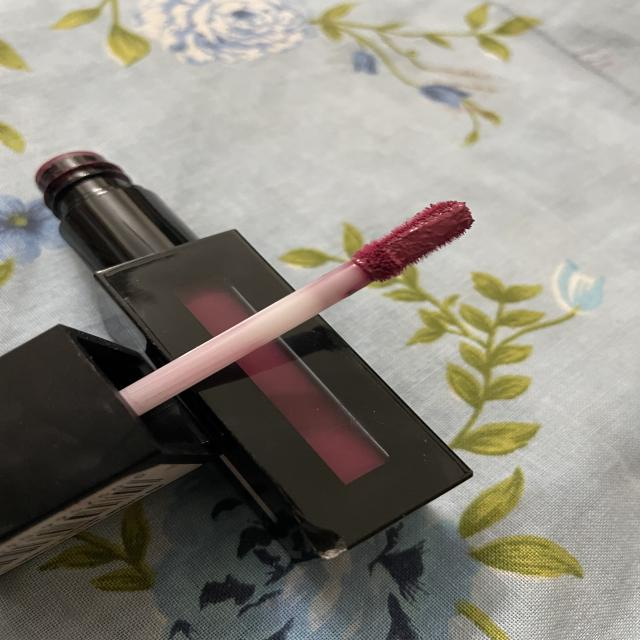lip gloss: (0, 148, 483, 597), (297, 172, 500, 320)
